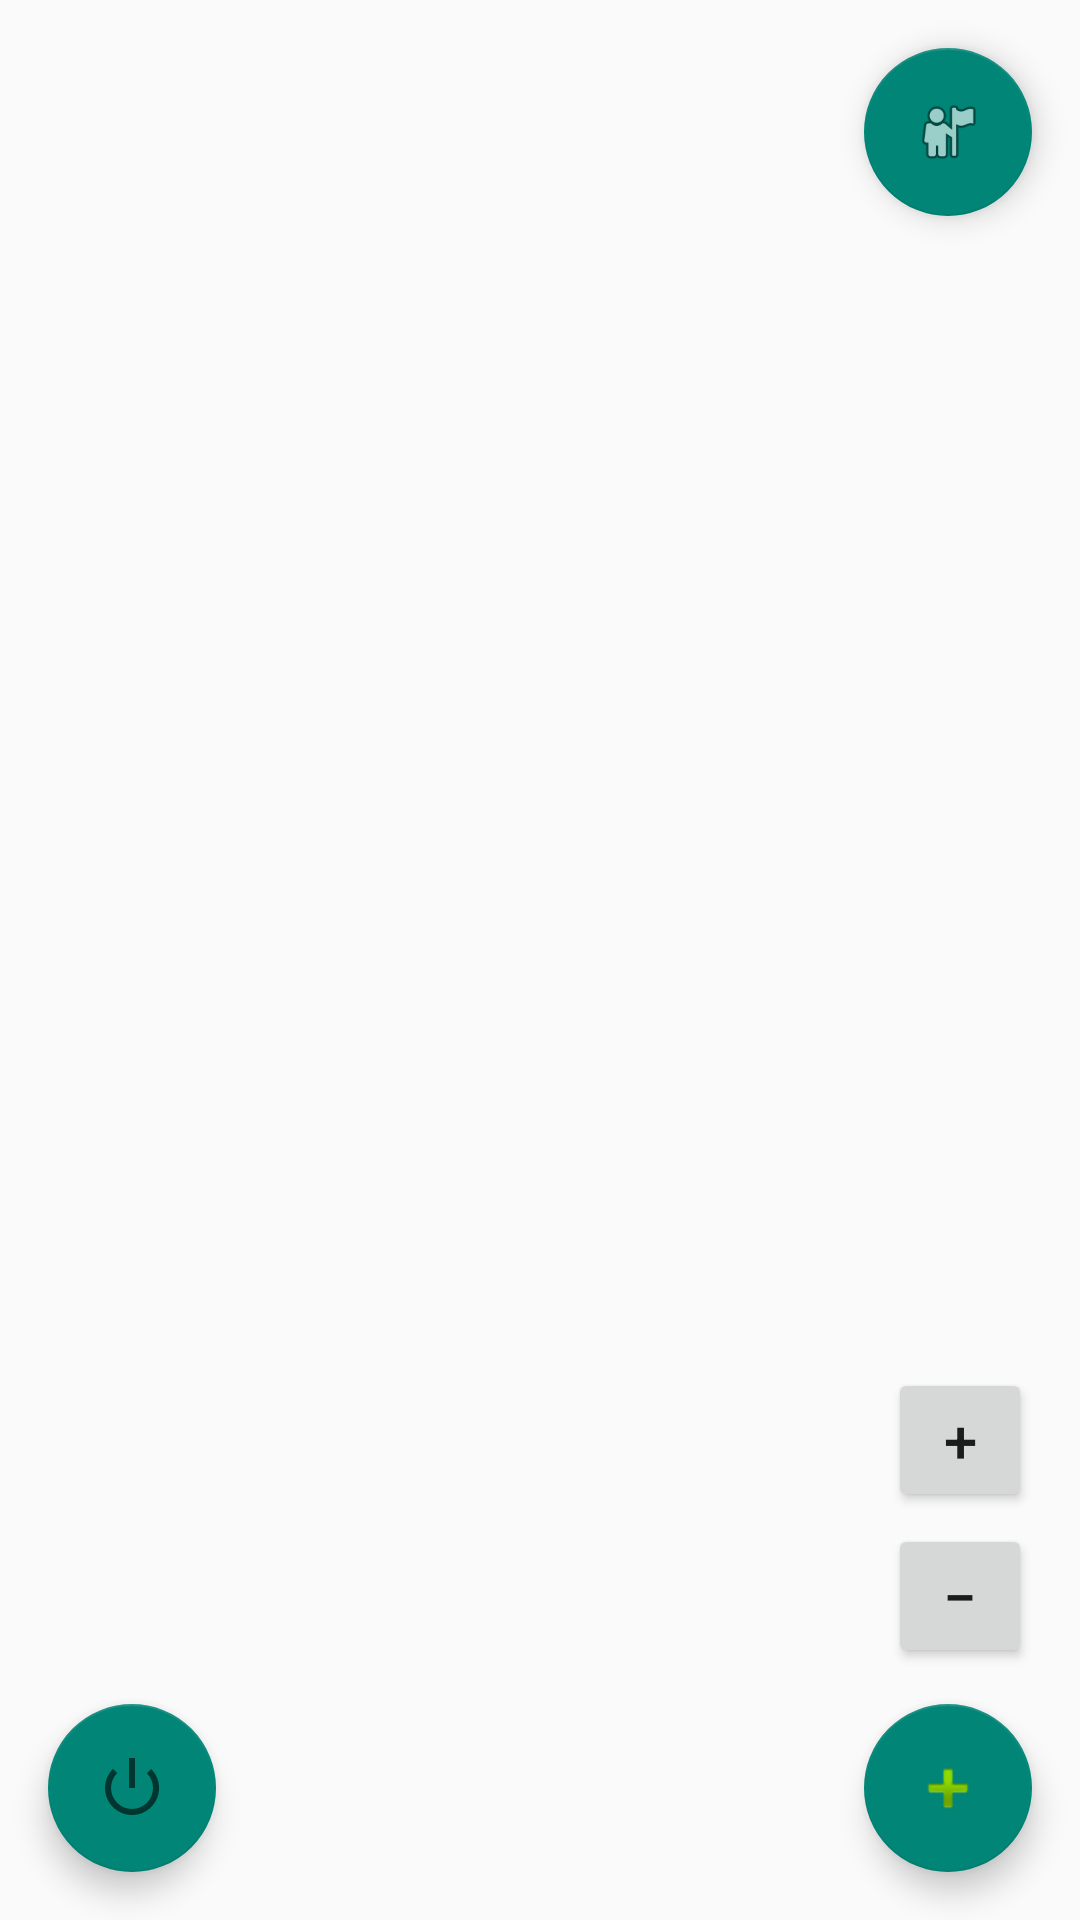

Screen size 1080w x 1920h. Icon name, then its center in pixels as (x,y):
add: (948,1788)
lock power off: (132,1788)
myplaces: (948,132)
